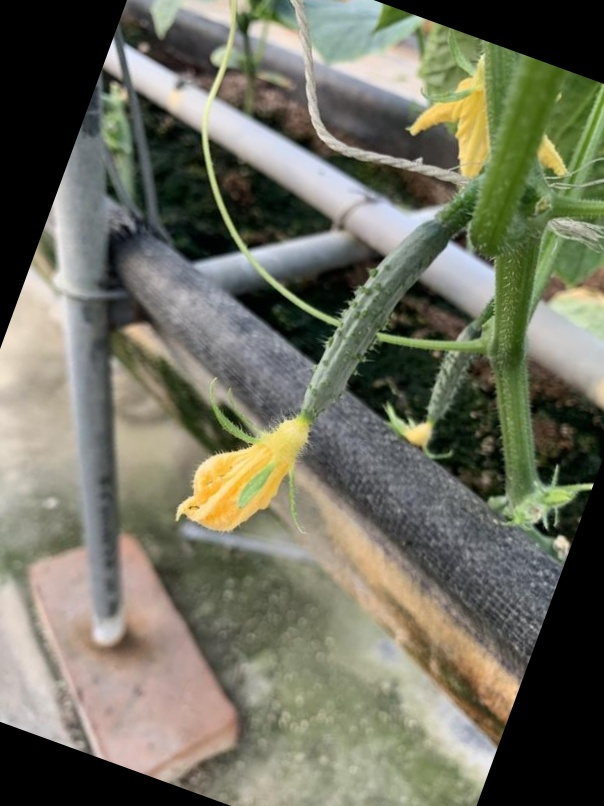bear: (174, 207, 463, 520)
